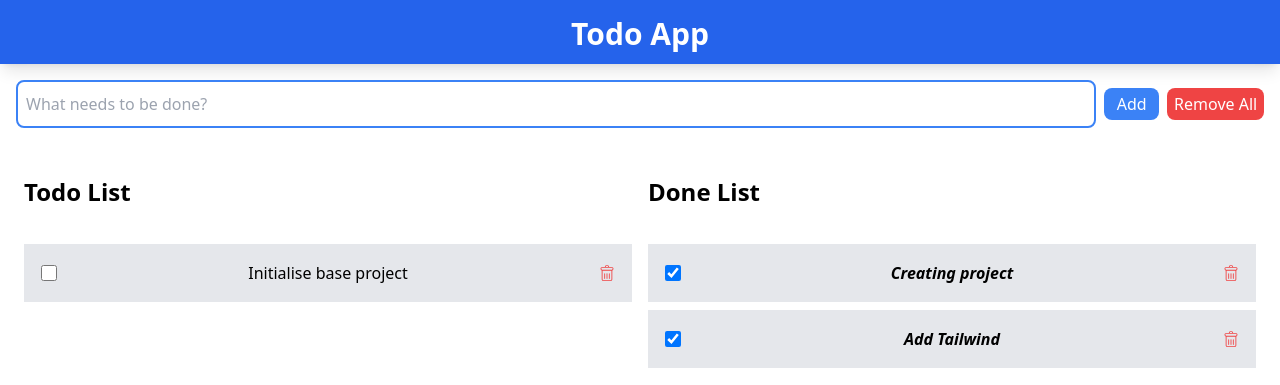
Test: shouldn't add todo if it is invalid
Type "Buy-groceries" into the field with placeholder "What needs to be done?". click: [556, 104]
box: [16, 80, 1096, 128]
Then press Enter
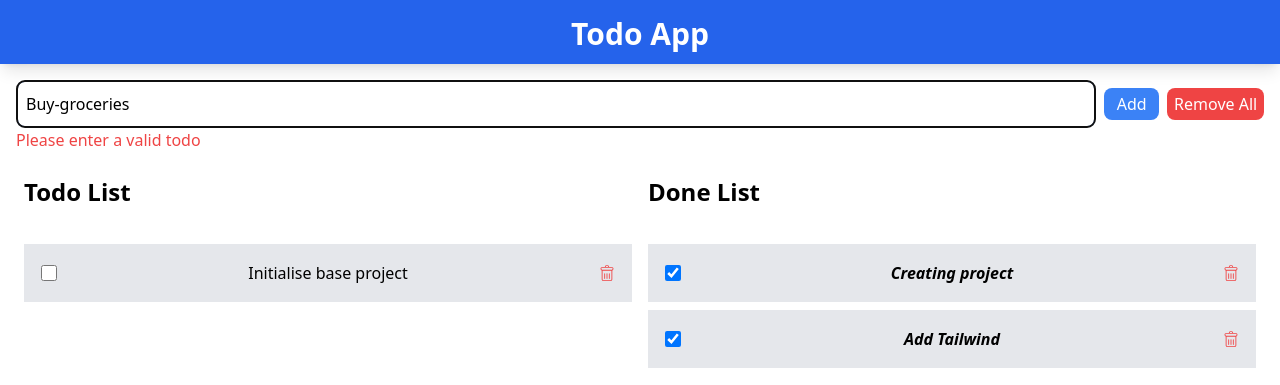
Expected: the text "Please enter a valid todo" is shown, [16, 129, 201, 151]
